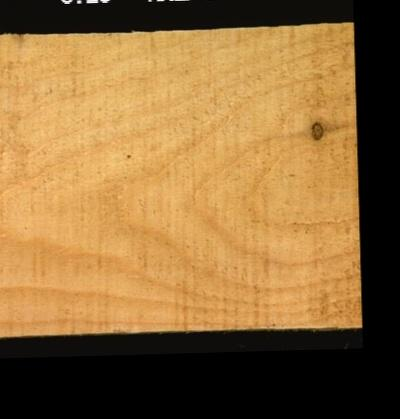dry_knot: (308, 118, 324, 142)
